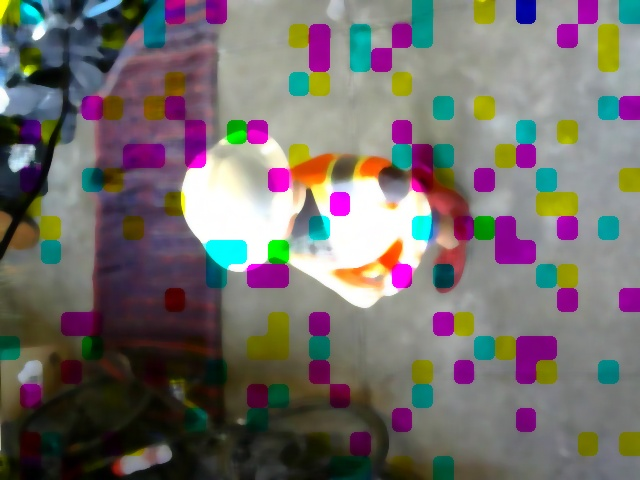eight: (190, 143, 237, 165)
